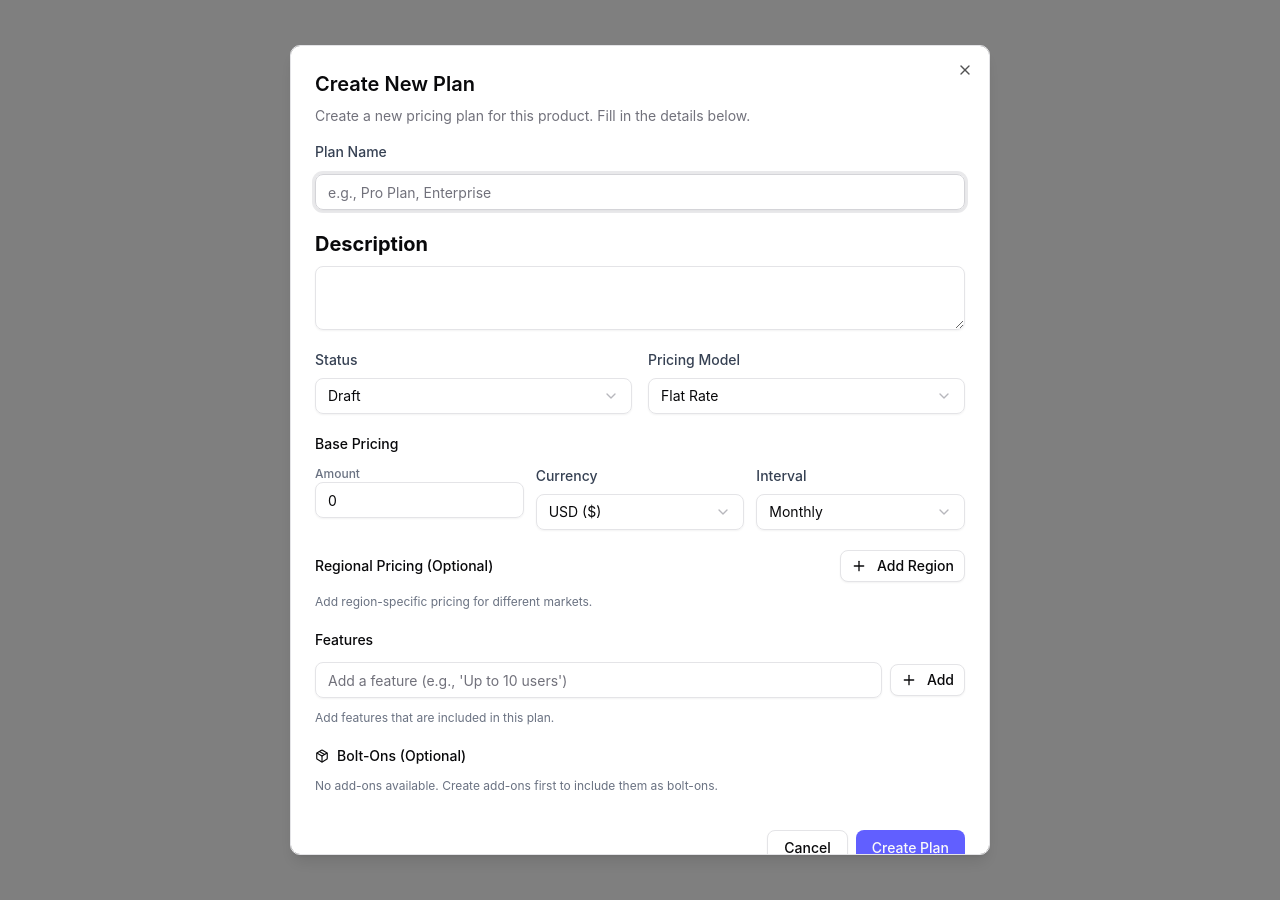
Test: ProductPlanDialog › Features Management › should remove a feature when X is clicked
The width and height of the screenshot is (1280, 900).
# Add a feature first
Type "Test feature" into the field with placeholder "Add a feature (e.g., 'Up to 10 users')".
click(598, 680); type("Test feature")  # box left=315, top=662, right=882, bottom=698
Then press Enter
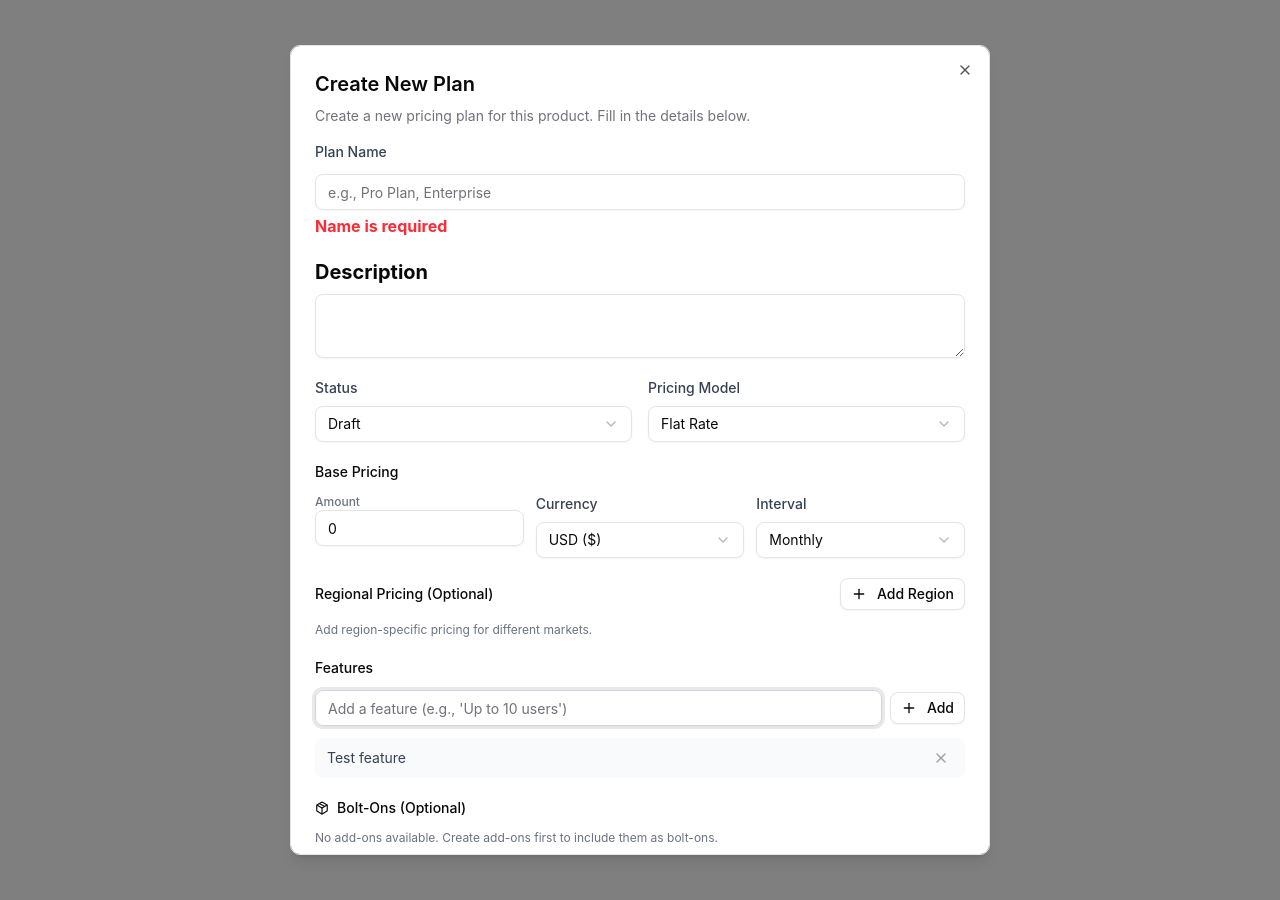
Expected: the text "Test feature" is shown, left=327, top=748, right=406, bottom=768
Click the button without text in the row of "Test feature".
click(941, 758)  # box left=929, top=746, right=953, bottom=770
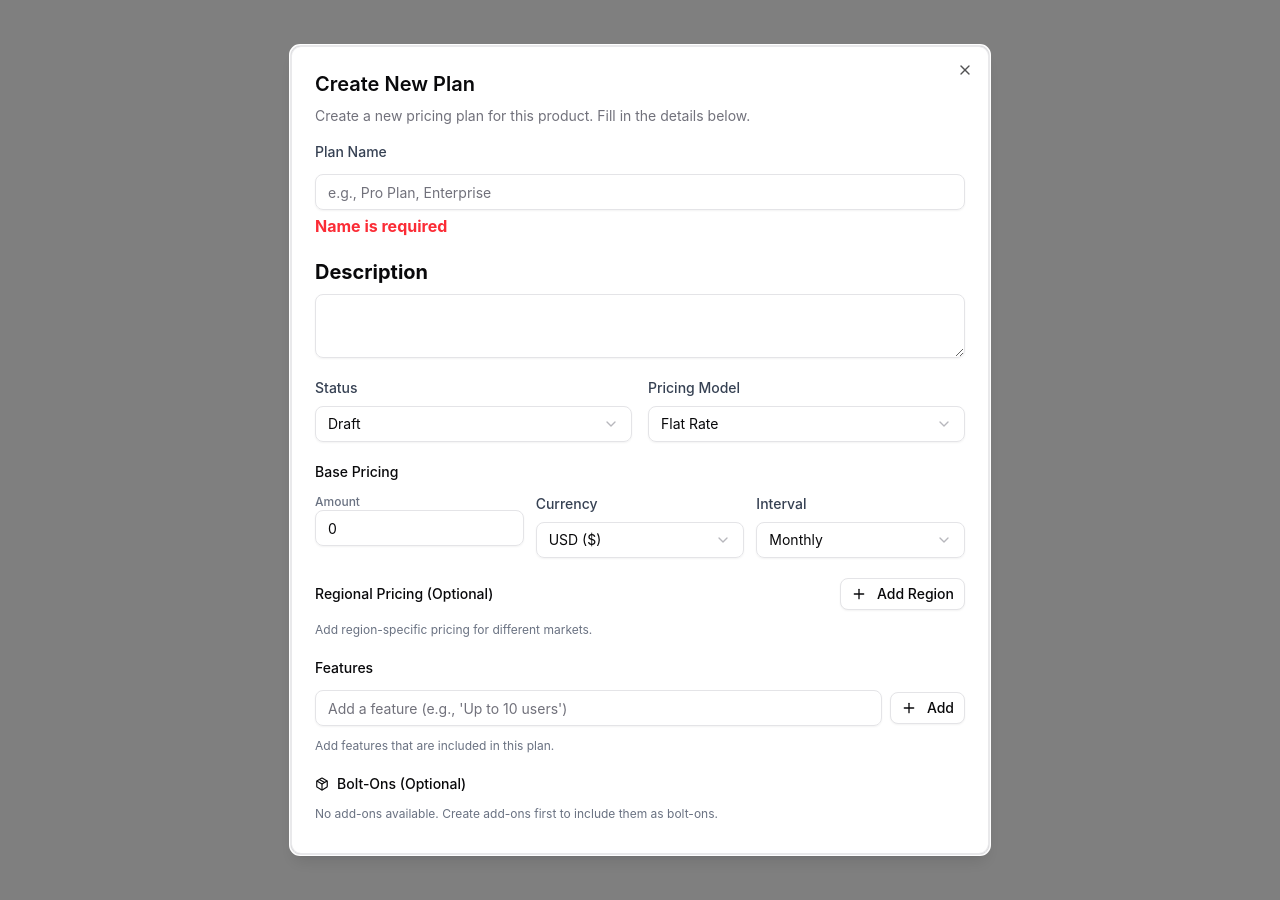
Expected: the text "Test feature" is gone
